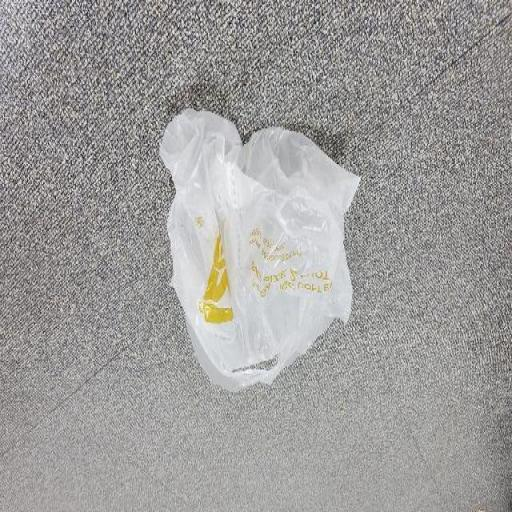plastic-bag: (157, 100, 359, 392)
